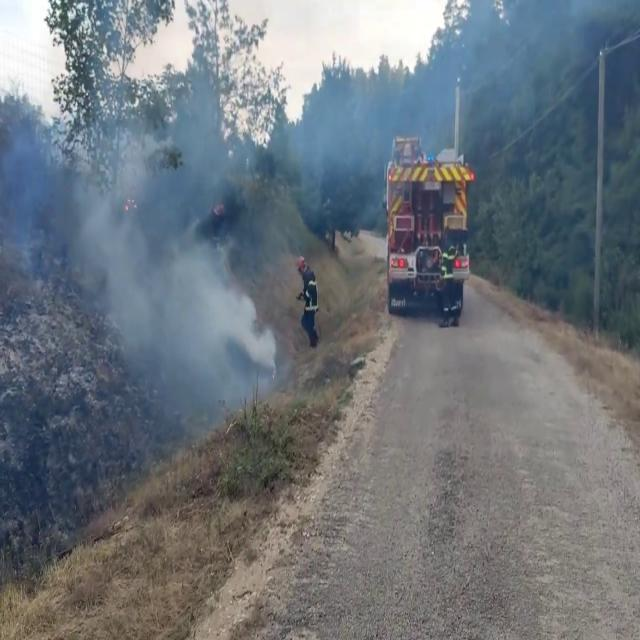Smoke: (19, 42, 279, 424)
